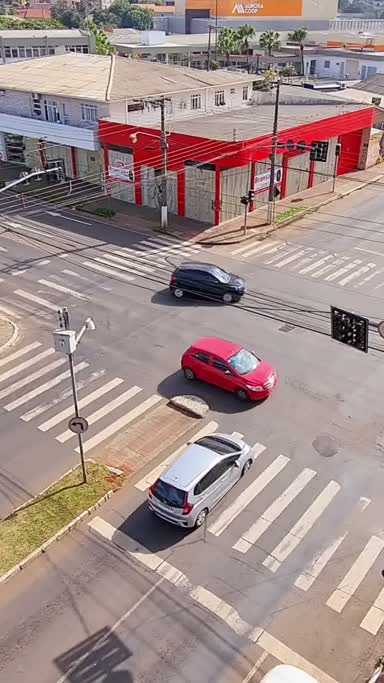car: (140, 425, 256, 536), (182, 333, 282, 408), (161, 251, 254, 314)
